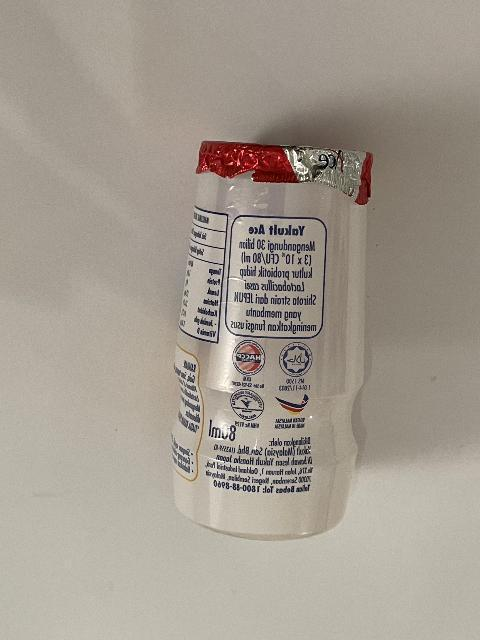plasticbottle: (168, 138, 376, 544)
